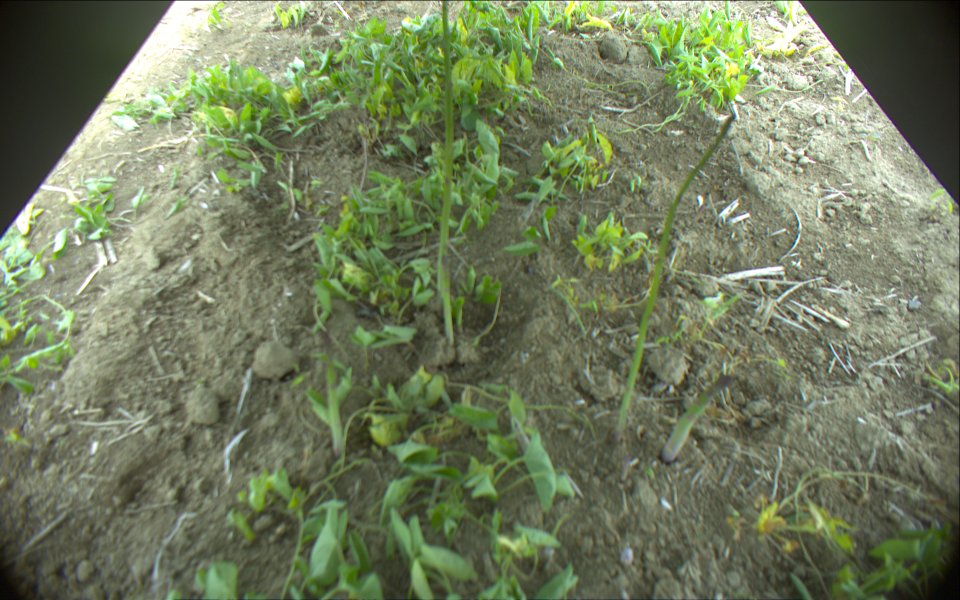aspa: (609, 113, 736, 442), (431, 1, 457, 346), (657, 372, 736, 464), (313, 327, 349, 466)
